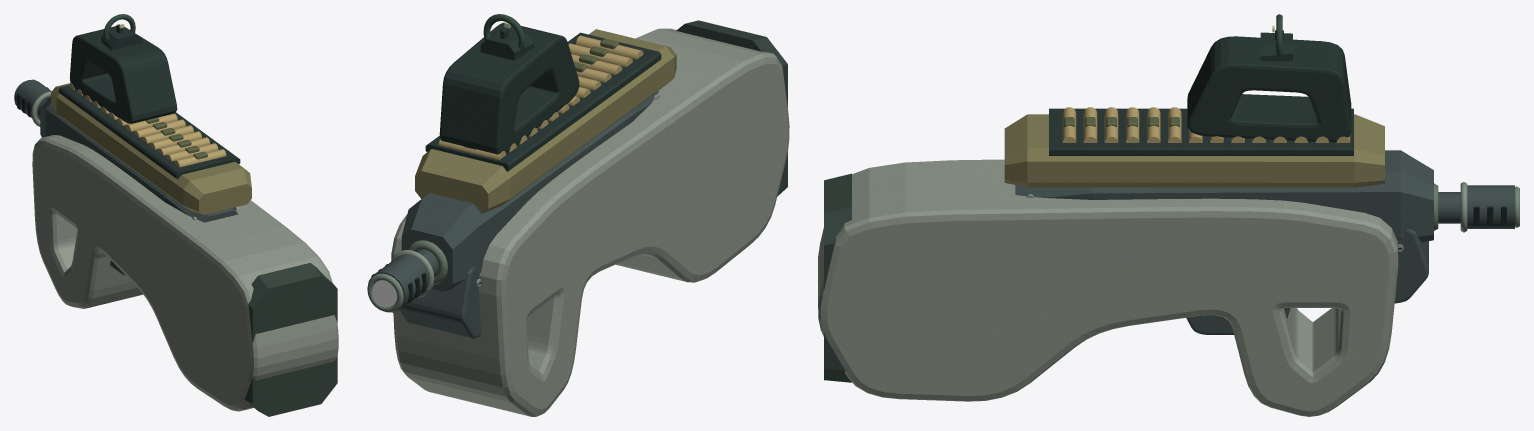
The picture shows the model from 3 angles, left to right: view 1: azimuth 30°, elevation 25°; view 2: azimuth 150°, elevation 25°; view 3: azimuth 270°, elevation 25°; orthographic projection. The views are drawn at different scales.
Visible parts, largest first — view 1: p90, magazine; view 2: p90, magazine; view 3: p90, magazine.
Part boxes in pixels (x1=…): p90: x1=14, y1=14, x2=338, y2=416; magazine: x1=51, y1=83, x2=251, y2=214; p90: x1=367, y1=14, x2=789, y2=416; magazine: x1=415, y1=29, x2=676, y2=213; p90: x1=818, y1=14, x2=1519, y2=416; magazine: x1=1004, y1=107, x2=1384, y2=187.
Size of the model in its own units: 0.1738 by 0.5508 by 0.932.
Materials: 20 (11 with a texture image).
